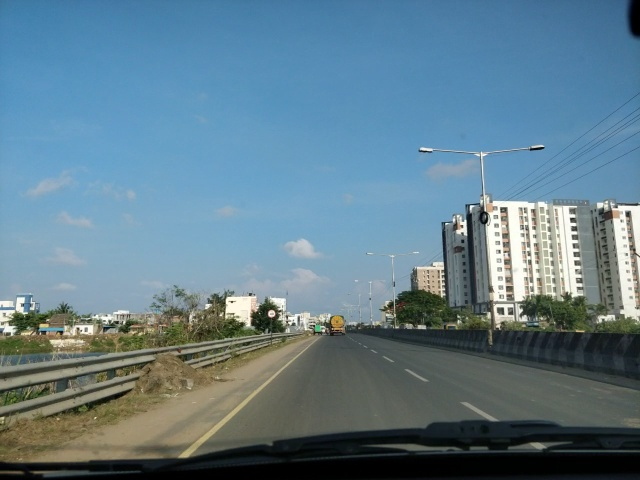truck: (328, 313, 347, 338), (312, 323, 325, 337)
